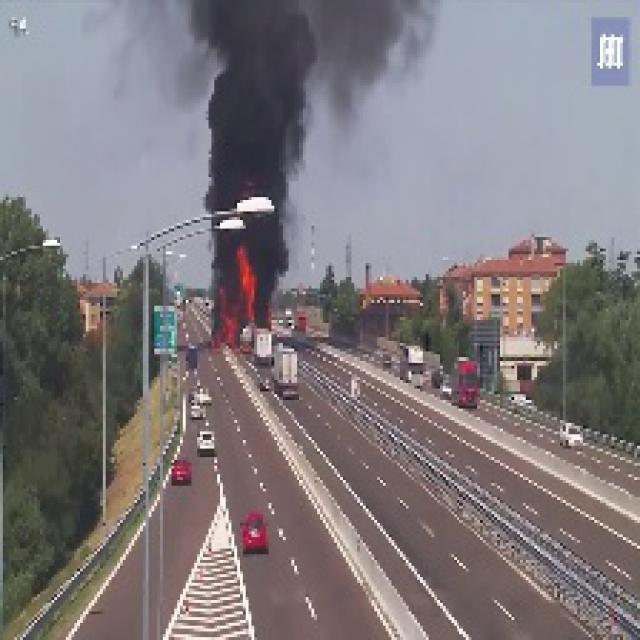fire: (206, 237, 263, 352)
